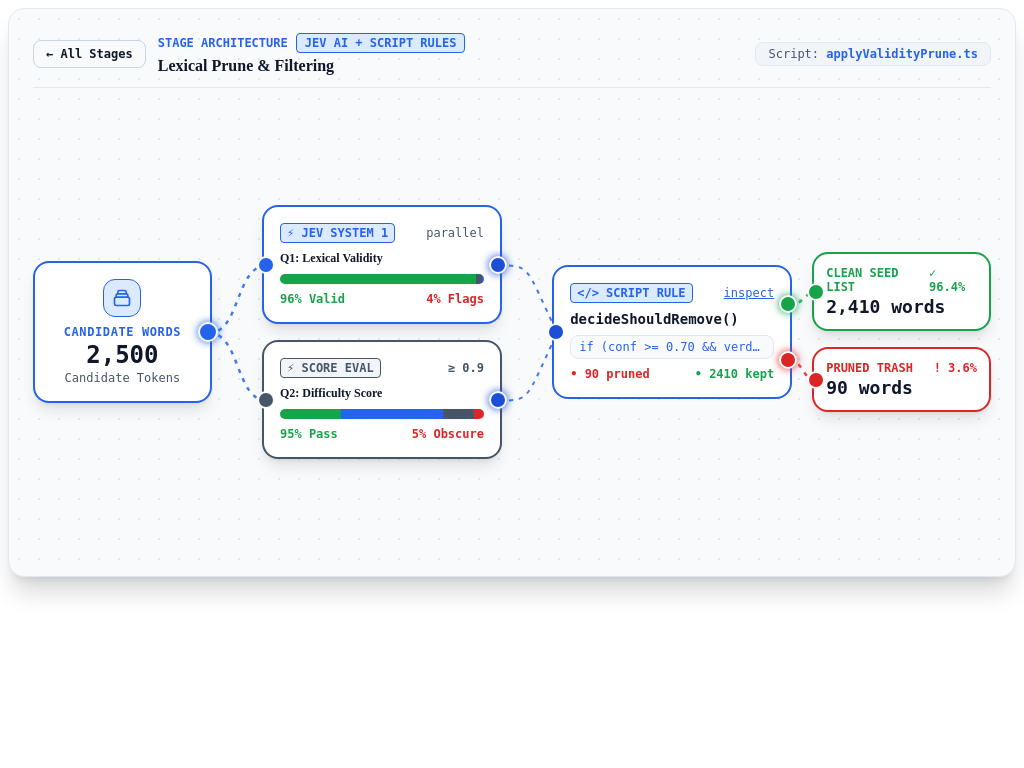
Test case: PipelineGraph & StepGraph › uses the active step configuration slice before the global fallback
Hover over the text "Q1: Lexical Validity" at (331, 258), box [280,251,383,265]
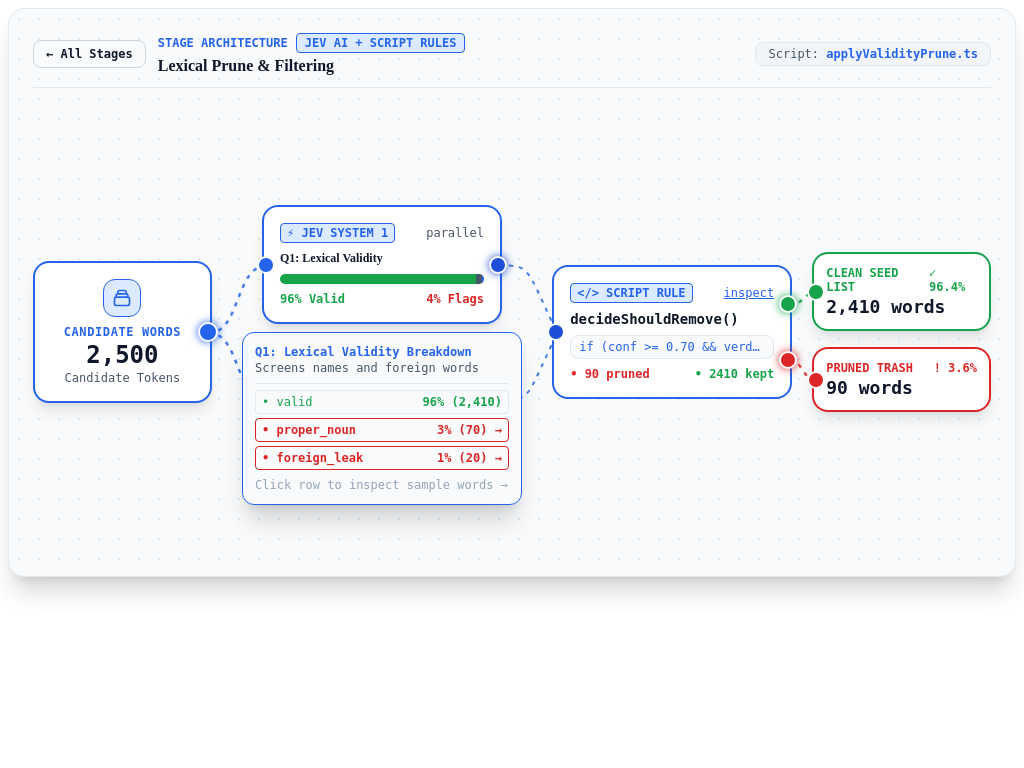
Click the text "• proper_noun" at (309, 430), box [262,423,356,437]
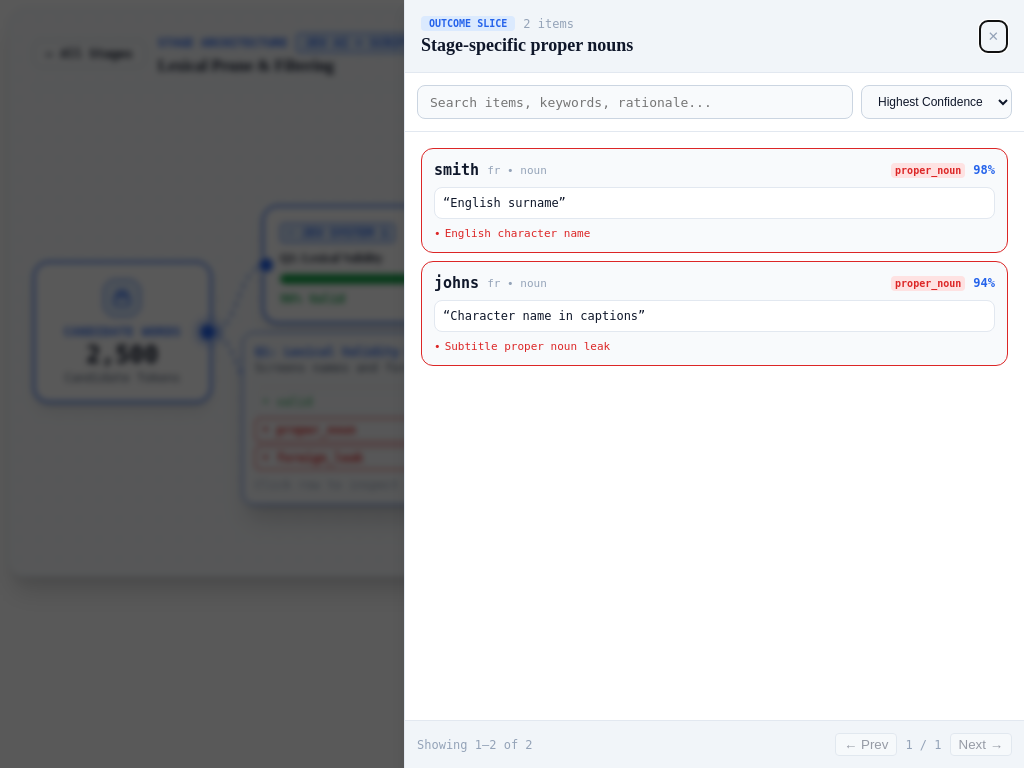
Expected: the dialog "Stage-specific proper nouns" is shown
